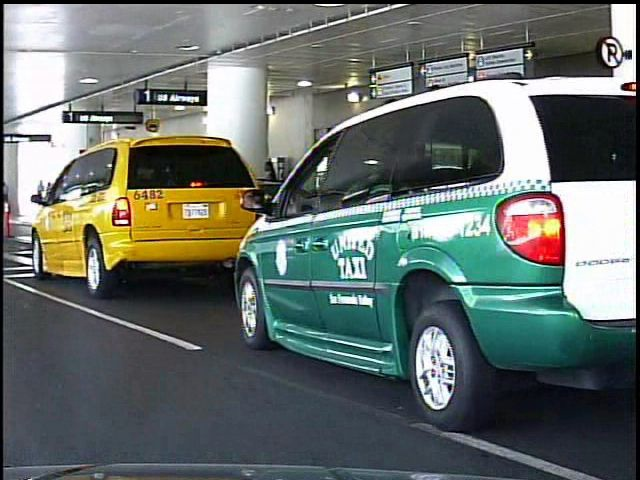person: (4, 180, 13, 216)
